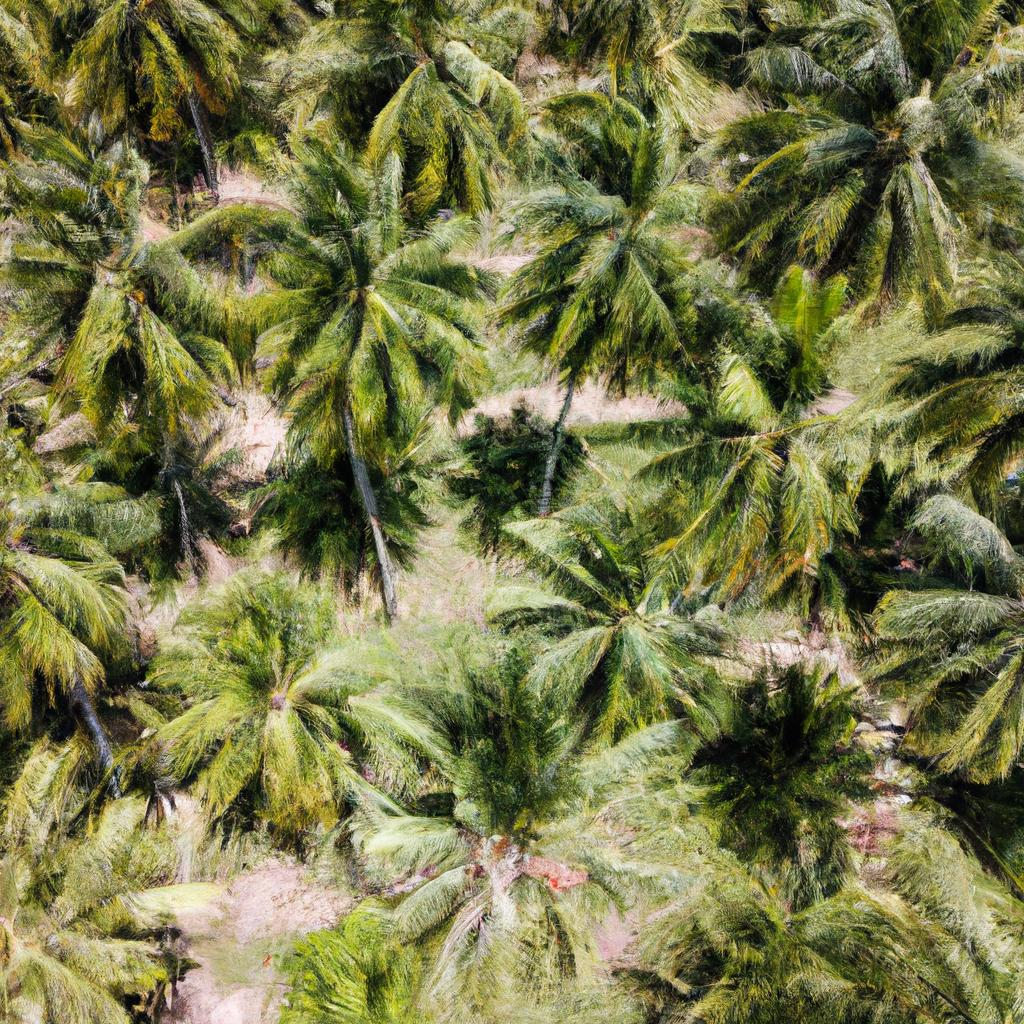coconut_tree: (694, 4, 1011, 272), (250, 178, 515, 466), (150, 586, 396, 843), (496, 505, 729, 721)
